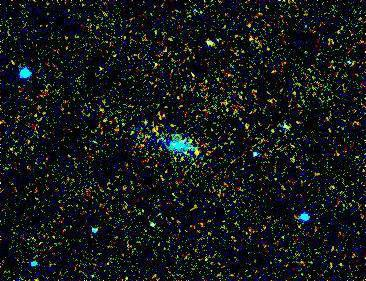star: (182, 137, 212, 167)
